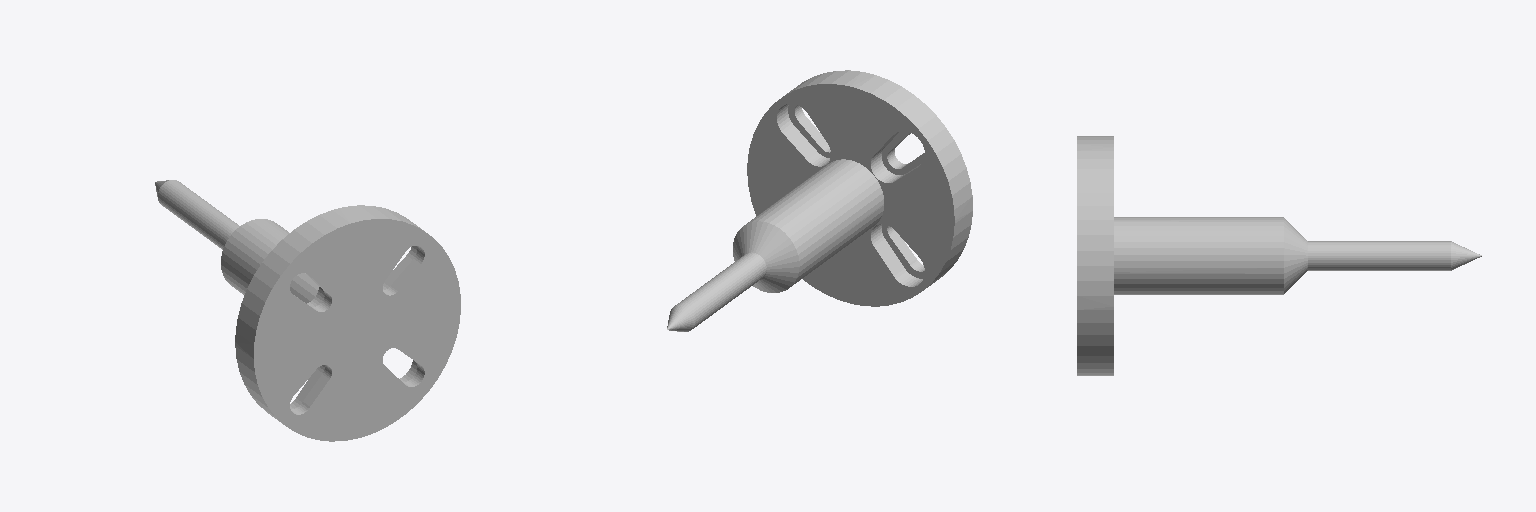
The model's file is SharpTip.obj.
3 views of the same model, side by side, from view 1: azimuth 30°, elevation 25°; view 2: azimuth 150°, elevation 25°; view 3: azimuth 270°, elevation 25° (orthographic).
Visible parts, largest first — view 1: Sharp_tip; view 2: Sharp_tip; view 3: Sharp_tip.
Boxes of the visible parts, <box> form: Sharp_tip: <box>155,180,460,441</box>; Sharp_tip: <box>667,70,972,331</box>; Sharp_tip: <box>1077,136,1481,375</box>.
Bounding box in the file's own units: 0.065 × 0.065 × 0.11.